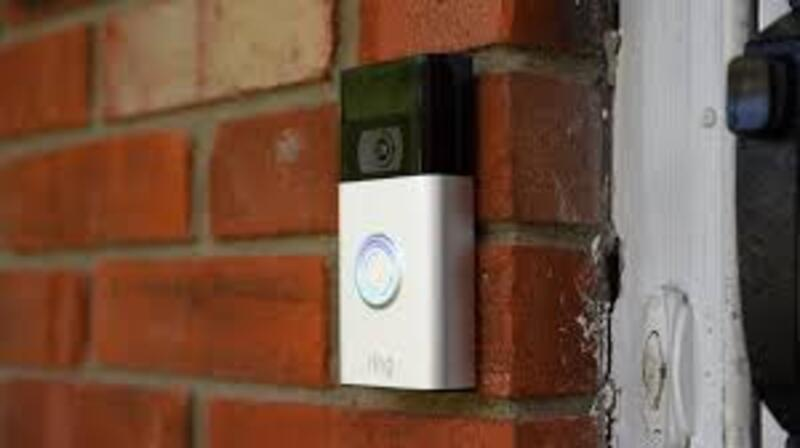doorbell: (326, 54, 481, 389)
